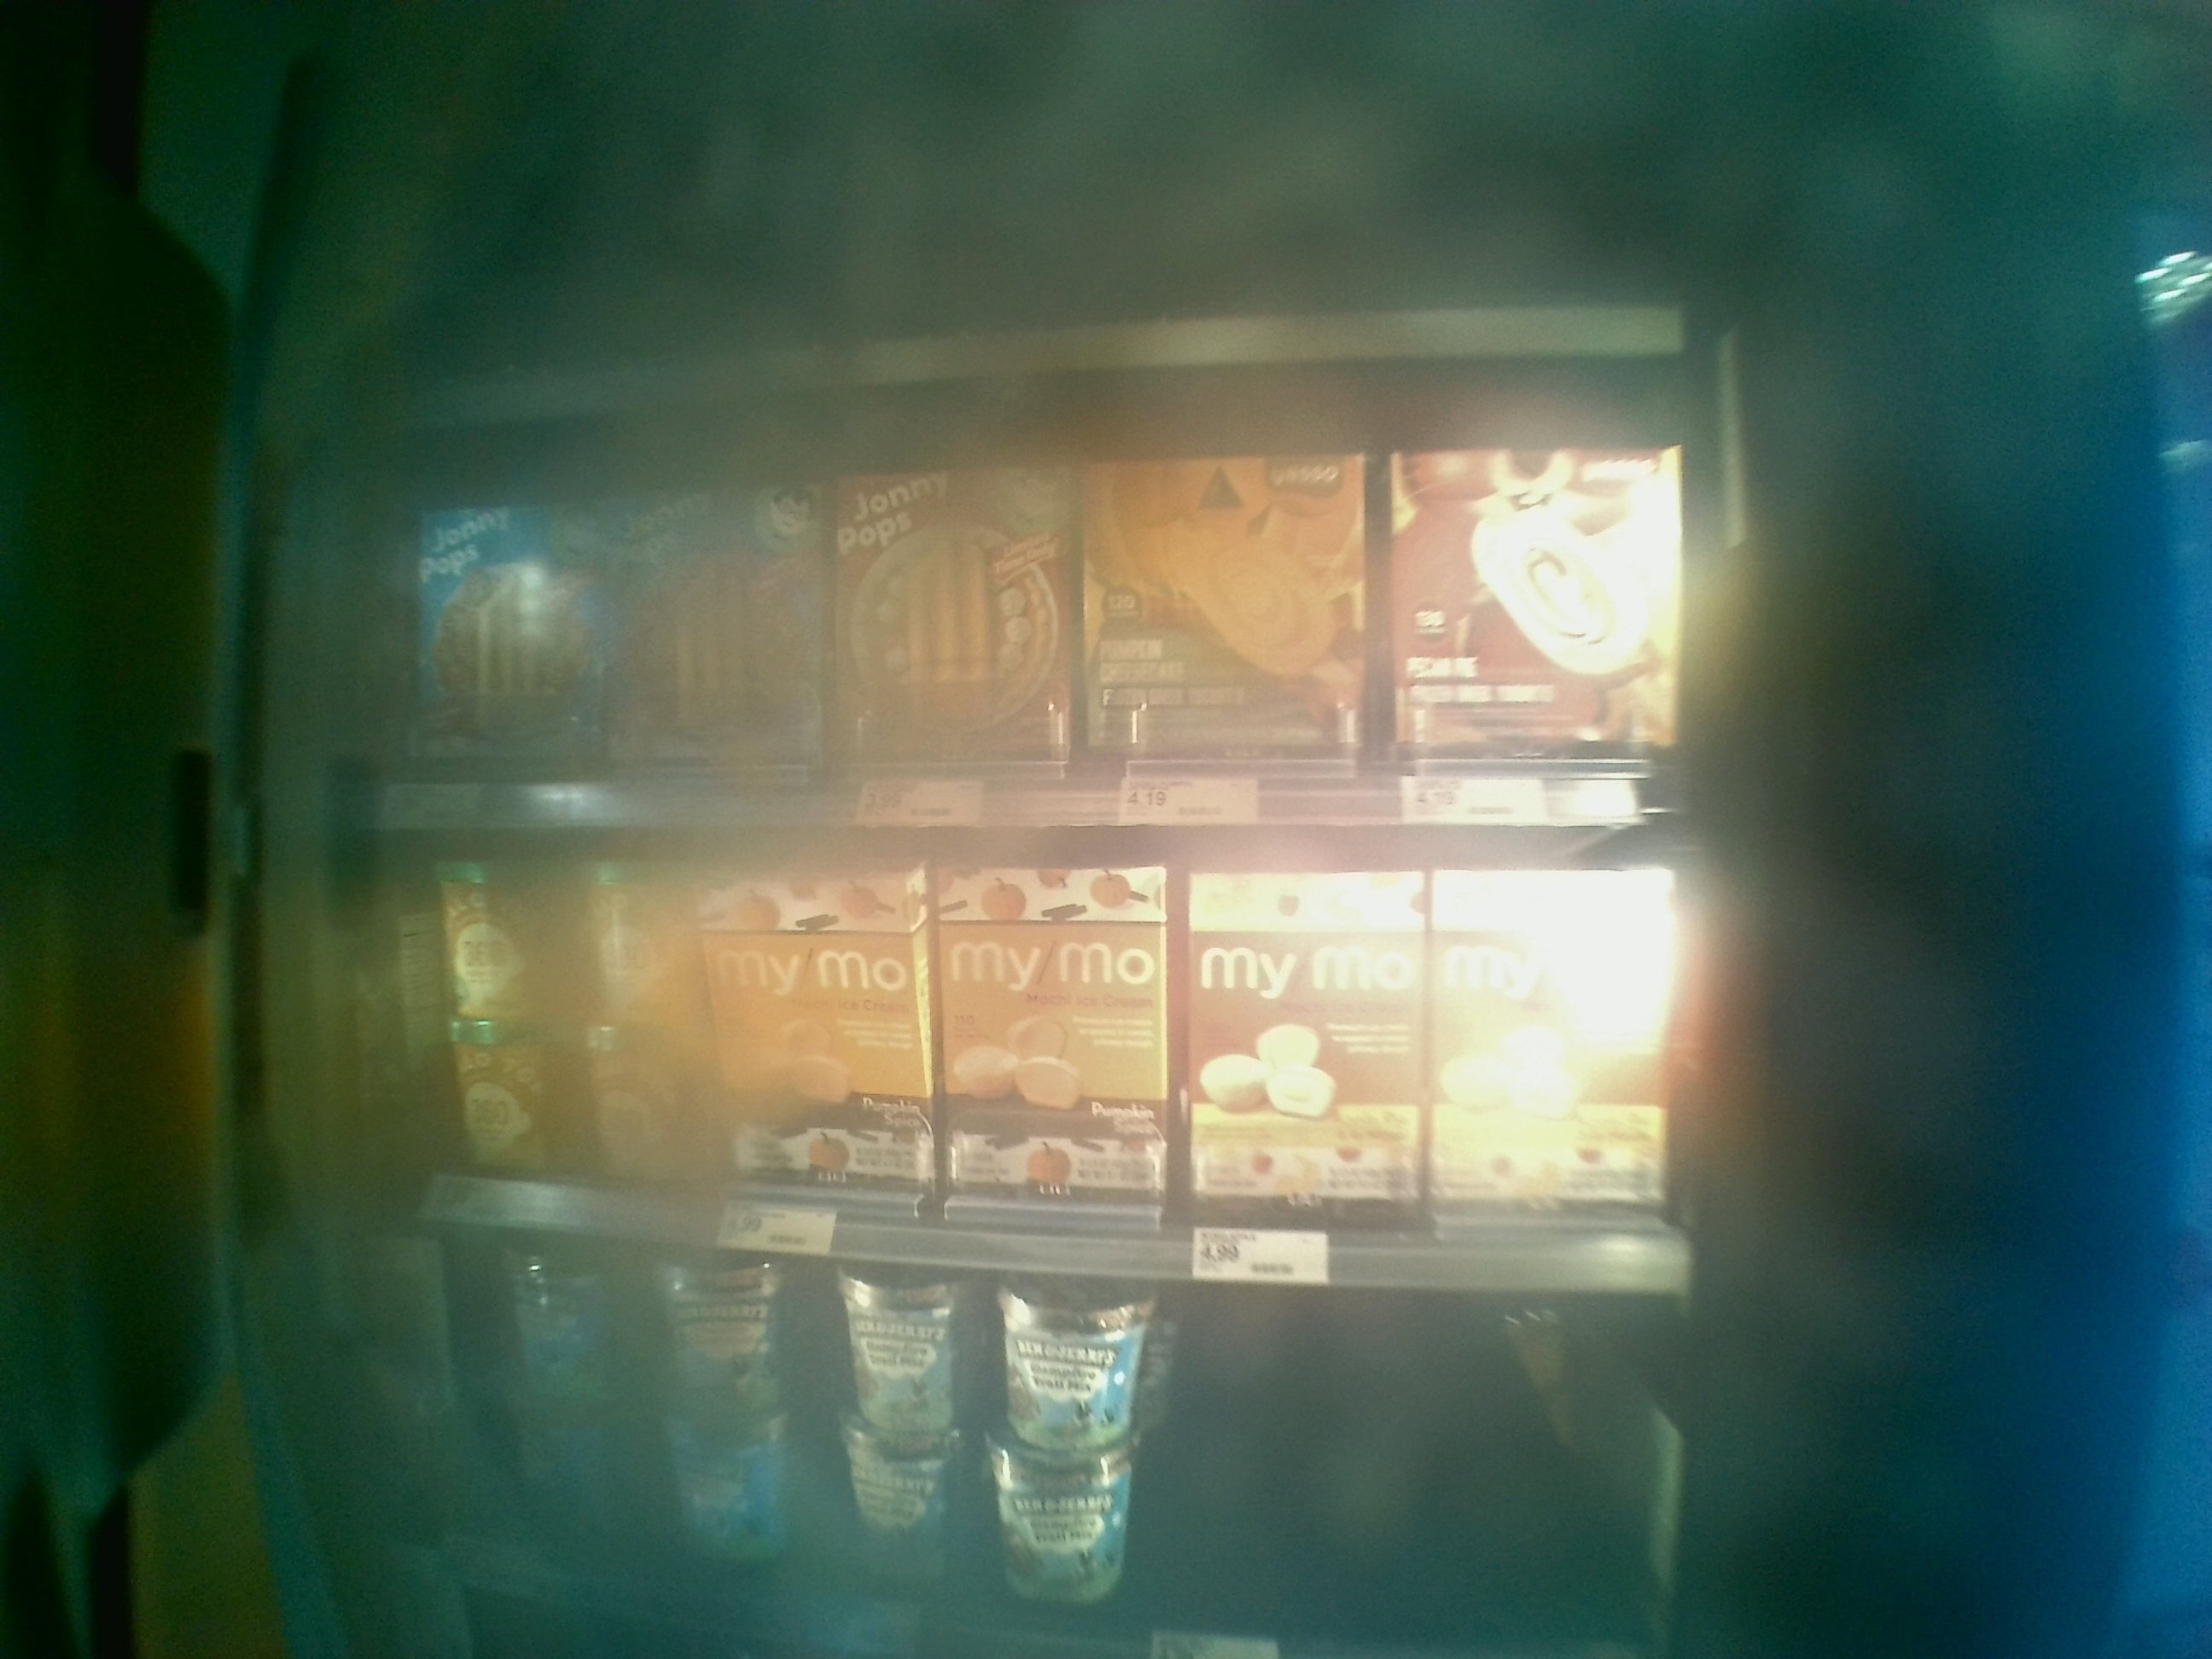shelf: (364, 793, 1658, 1267), (340, 394, 1658, 802)
